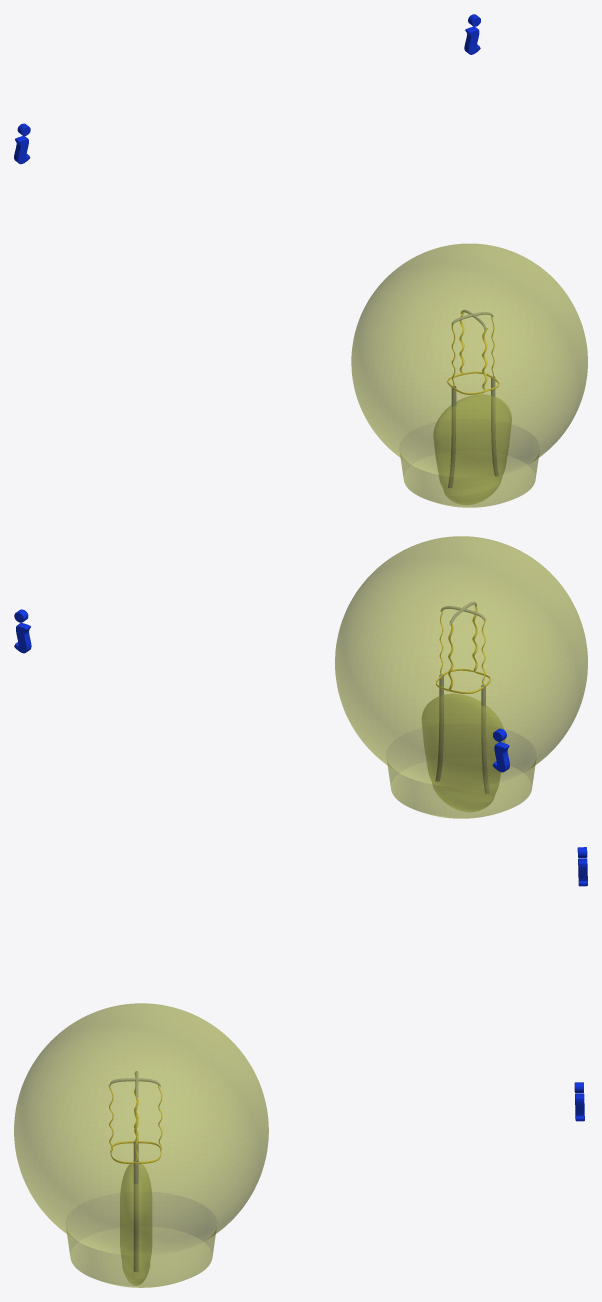
The model's file is focoPrendido.dae.
The picture shows the model from 3 angles, top to bottom: view 1: azimuth 30°, elevation 25°; view 2: azimuth 150°, elevation 25°; view 3: azimuth 270°, elevation 25°; orthographic projection. The views are drawn at different scales.
Visible parts, largest first — view 1: foco, Sphere.001, NurbsPath.002, filamento; view 2: foco, Sphere.001, NurbsPath.002, filamento, Texto.023, Texto.002; view 3: foco, Sphere.001, filamento, NurbsPath.002.
Boxes of the visible parts, bbox=[...] form: foco: bbox=[351, 243, 587, 507]; Sphere.001: bbox=[433, 394, 511, 504]; NurbsPath.002: bbox=[448, 376, 498, 487]; filamento: bbox=[447, 312, 499, 394]; foco: bbox=[335, 536, 587, 818]; Sphere.001: bbox=[422, 694, 505, 811]; NurbsPath.002: bbox=[435, 674, 489, 793]; filamento: bbox=[436, 606, 490, 693]; Texto.023: bbox=[492, 728, 509, 772]; Texto.002: bbox=[14, 609, 31, 653]; foco: bbox=[14, 1003, 268, 1287]; Sphere.001: bbox=[120, 1161, 151, 1285]; filamento: bbox=[108, 1073, 162, 1163]; NurbsPath.002: bbox=[133, 1140, 138, 1271].
Bounding box in the file's own units: 2.62 × 2.62 × 1.55.
